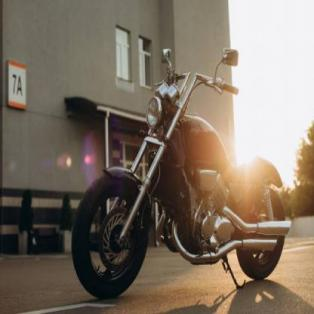Motocicleta: (63, 45, 293, 301)
